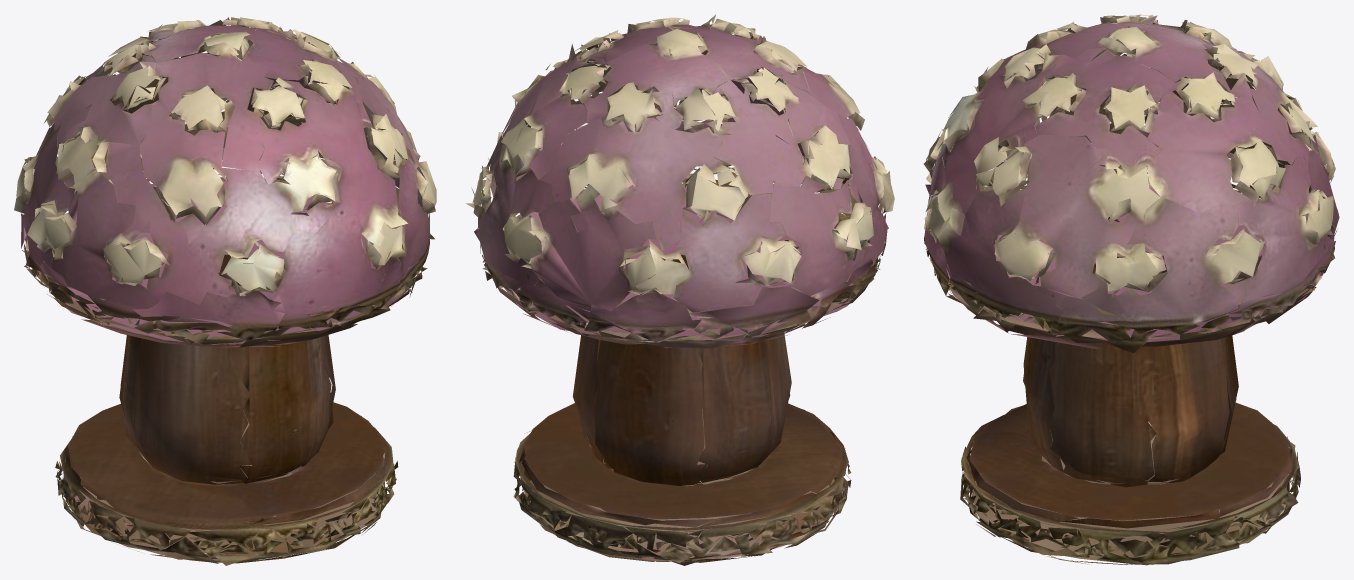
Rendered from mushroom.glb.
3 views of the same model, side by side, from view 1: azimuth 30°, elevation 25°; view 2: azimuth 150°, elevation 25°; view 3: azimuth 270°, elevation 25° (orthographic).
Visible parts, largest first — view 1: geometry_0; view 2: geometry_0; view 3: geometry_0.
Part boxes in pixels (x1,y1,x2,y2): geometry_0: (14, 17, 436, 565); geometry_0: (465, 14, 894, 565); geometry_0: (923, 14, 1339, 565).
Bounding box in the file's own units: 0.2964 × 0.3538 × 0.2849.
Materials: 1 (1 with a texture image).
